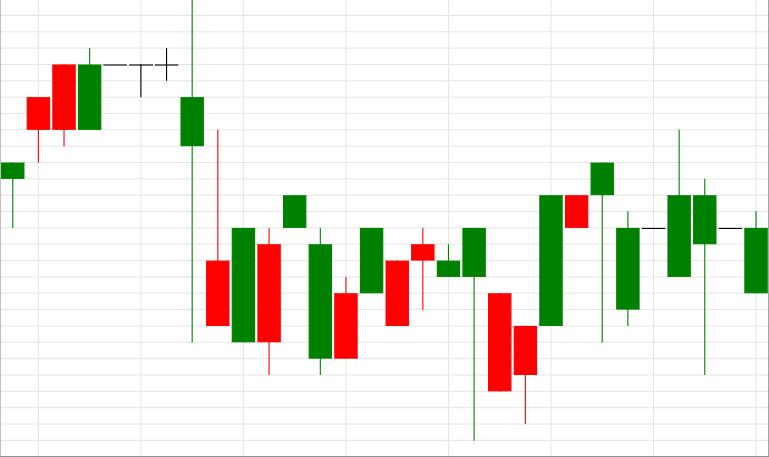hanging_man_fall: (489, 163, 614, 423)
